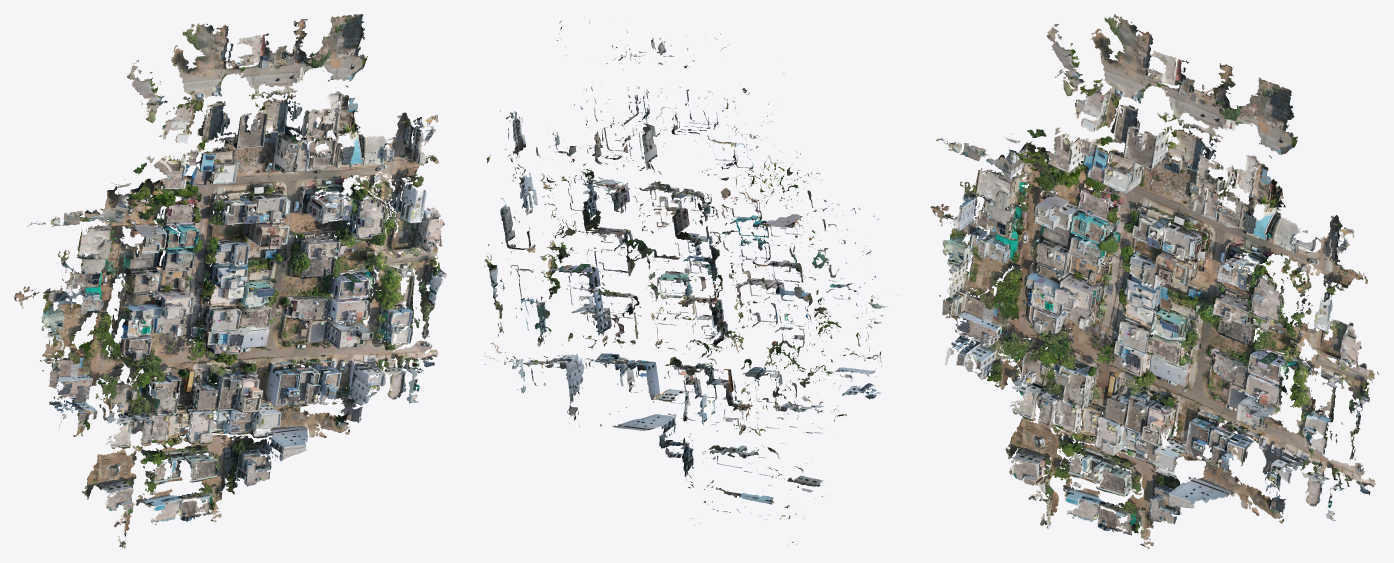
Rendered from manewada.glb.
The picture shows the model from 3 angles, left to right: view 1: azimuth 30°, elevation 25°; view 2: azimuth 150°, elevation 25°; view 3: azimuth 330°, elevation 25°; orthographic projection. The views are drawn at different scales.
Visible parts, largest first — view 1: Mesh_0; view 2: Mesh_0; view 3: Mesh_0.
Boxes of the visible parts, x1,y1,x2,y2 form: Mesh_0: (14,14,446,548); Mesh_0: (484,20,889,547); Mesh_0: (930,14,1379,548).
Bounding box in the file's own units: 197 × 224 × 22.13.
Materials: 72 (71 with a texture image).
